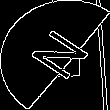N_SE: (18, 24, 92, 86)
